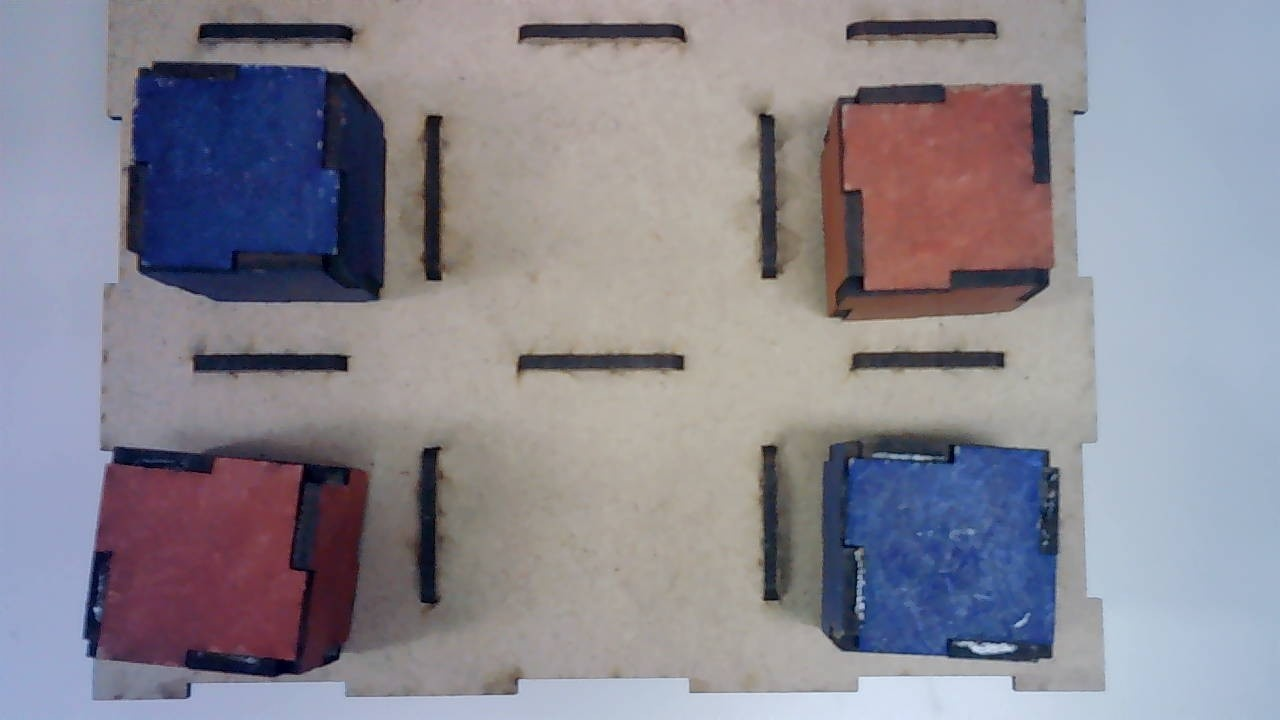blue box: (127, 59, 389, 302), (823, 436, 1058, 664)
red box: (80, 448, 370, 683), (819, 78, 1058, 319)
